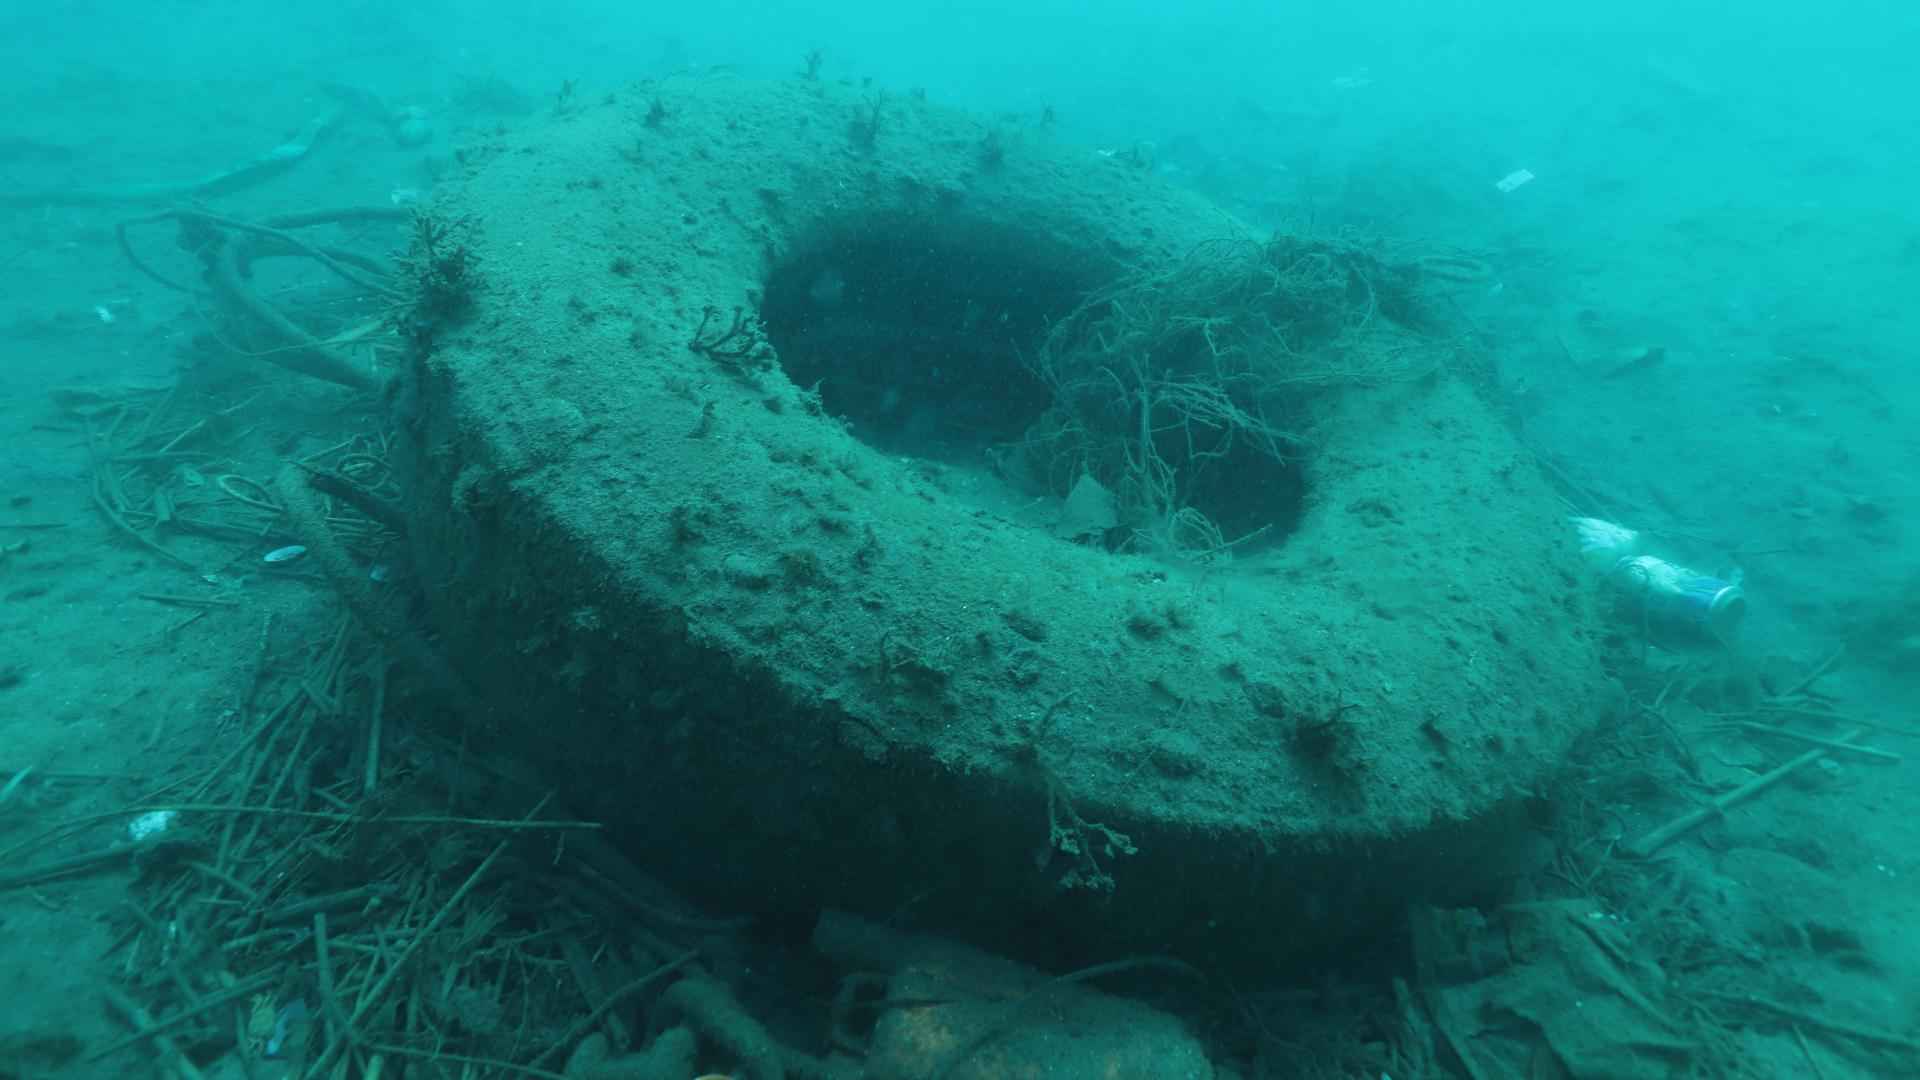tire: (404, 73, 1604, 965)
